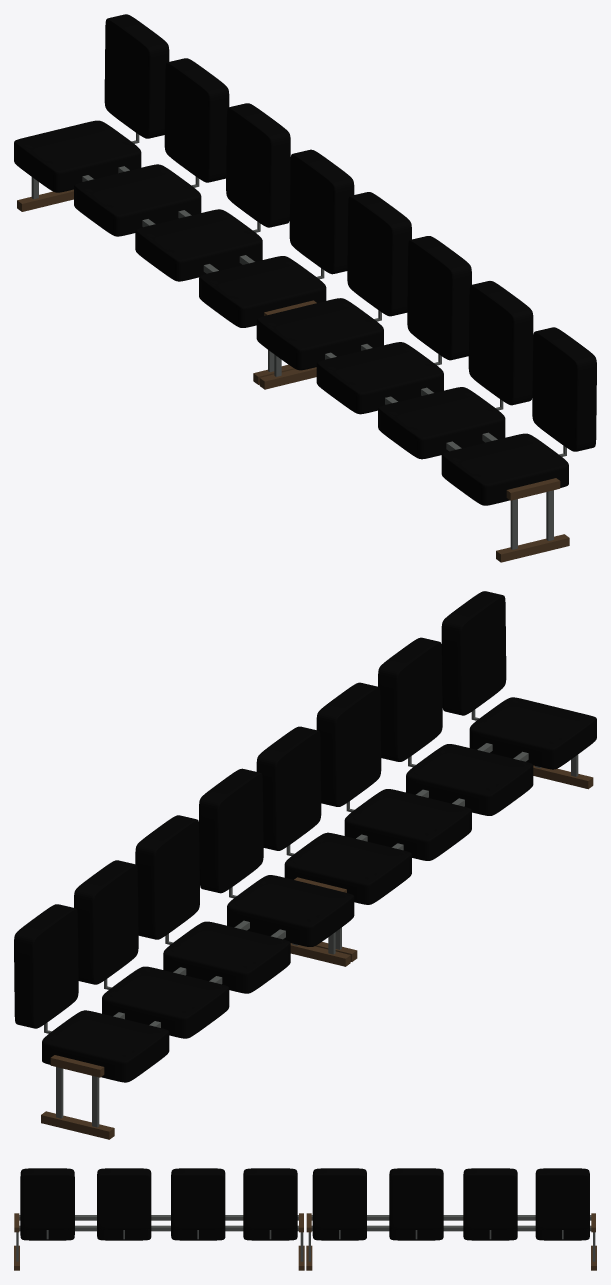
Rendered from Cadeiras FBX.fbx.
3 views of the same model, one above another, from view 1: azimuth 30°, elevation 25°; view 2: azimuth 150°, elevation 25°; view 3: azimuth 270°, elevation 25° (orthographic). The views are drawn at different scales.
Visible parts, largest first — view 1: Cube.008; view 2: Cube.008; view 3: Cube.008.
Part boxes in pixels (x1,y1,x2,y2): Cube.008: (14,14,596,562); Cube.008: (14,591,596,1139); Cube.008: (14,1168,596,1270).
Bounding box in the file's own units: 586 × 860 × 4265.
